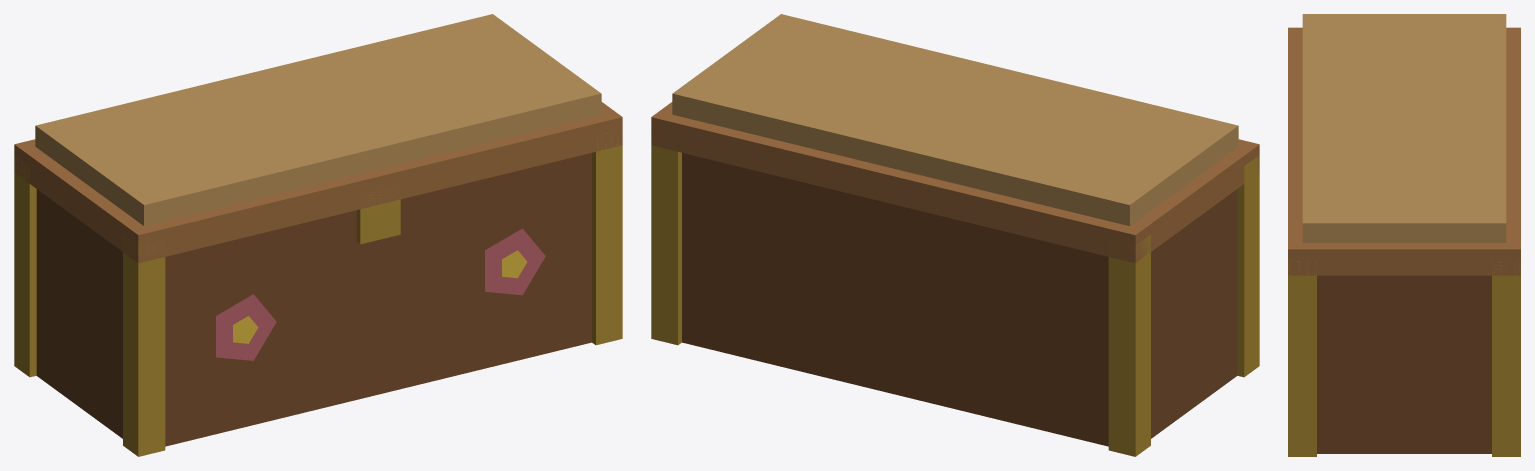
Rendered from hope_chest.glb.
The picture shows the model from 3 angles, left to right: view 1: azimuth 30°, elevation 25°; view 2: azimuth 150°, elevation 25°; view 3: azimuth 270°, elevation 25°; orthographic projection. The views are drawn at different scales.
Parts seen in each view (by area): view 1: furniture-hope_chest; view 2: furniture-hope_chest; view 3: furniture-hope_chest.
Boxes of the visible parts, left/top/right/bottom form: furniture-hope_chest: left=14, top=14, right=622, bottom=456; furniture-hope_chest: left=651, top=14, right=1259, bottom=456; furniture-hope_chest: left=1288, top=14, right=1520, bottom=456.
Bounding box in the file's own units: 1.44 × 0.69 × 0.6399.
